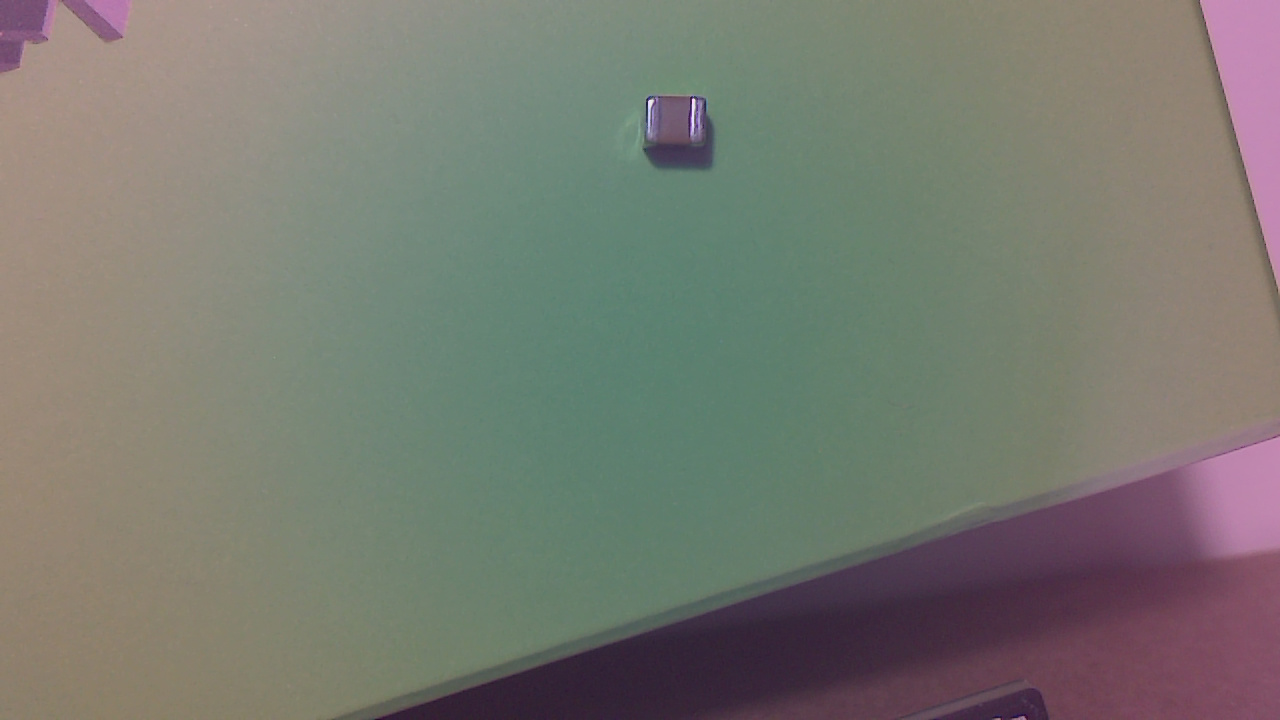Condensator: (647, 96, 716, 163)
